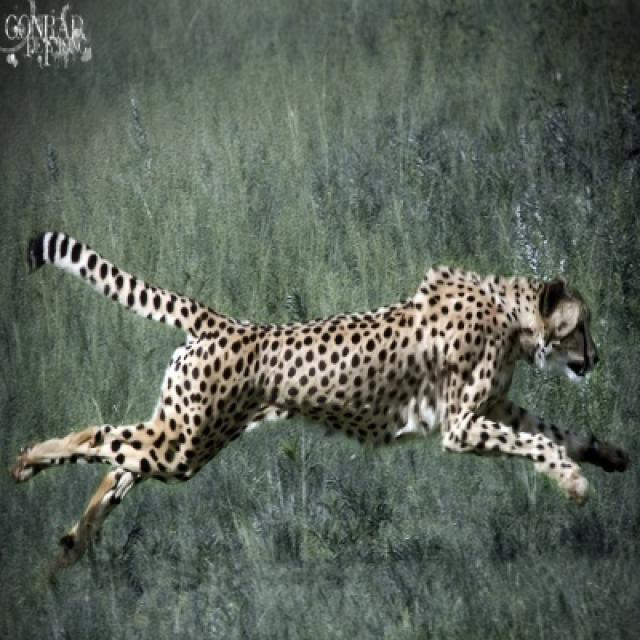Cheetah: (10, 234, 627, 568)
